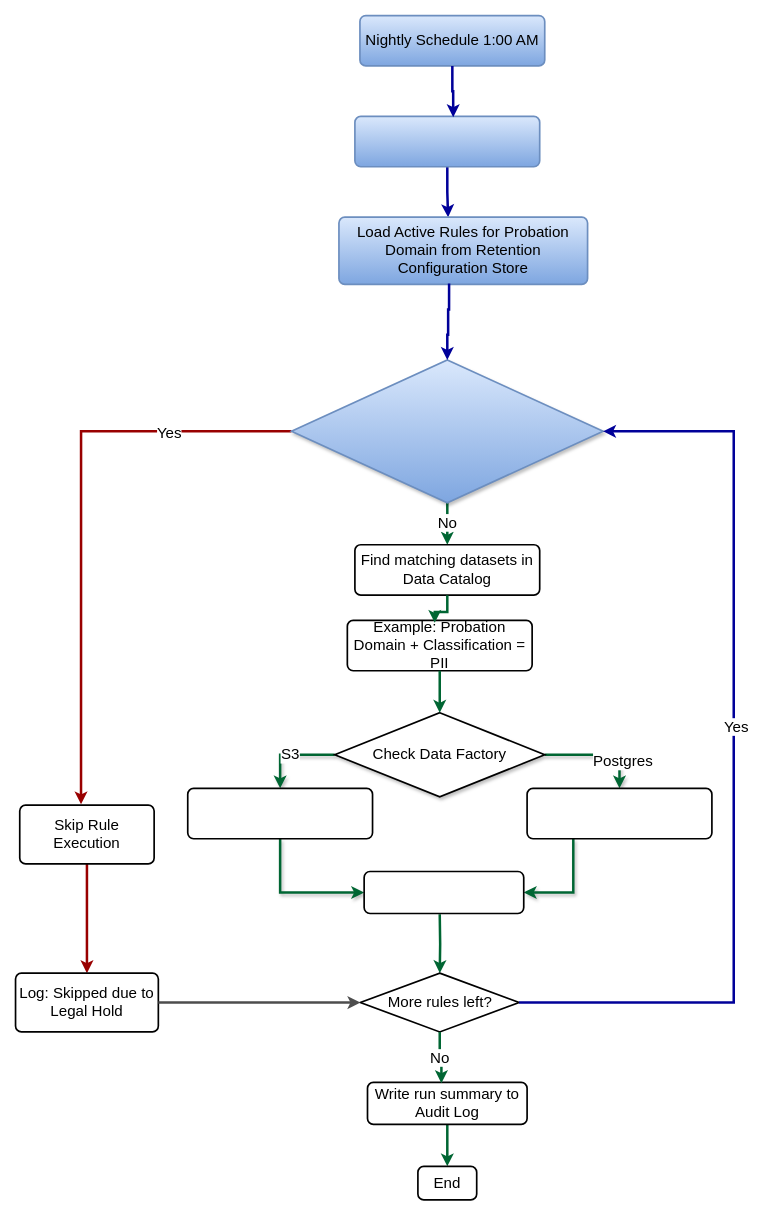
This 763x1215 diagram has some shape labels left out. The shapes that lost their labels are listed below. From the top down, each one's centre as x and y in pixels, then its label:
point 447,141: Retention Rules Engine
point 448,432: For each rule: Is there a legal hold or moratorium?
point 279,813: Apply Retention Action on S3
point 619,813: Apply Retention Action on Postgres
point 443,892: Log Dataset - Level Result
